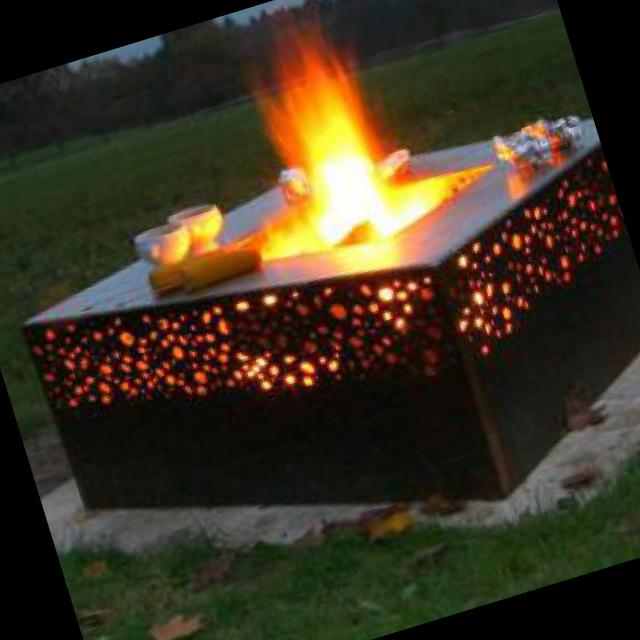fire: (230, 20, 418, 266)
